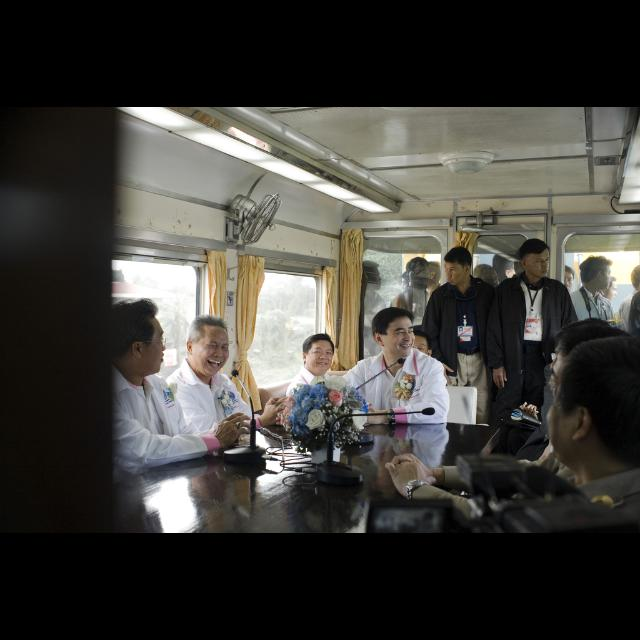Flower: (278, 372, 368, 443), (308, 409, 326, 428)
